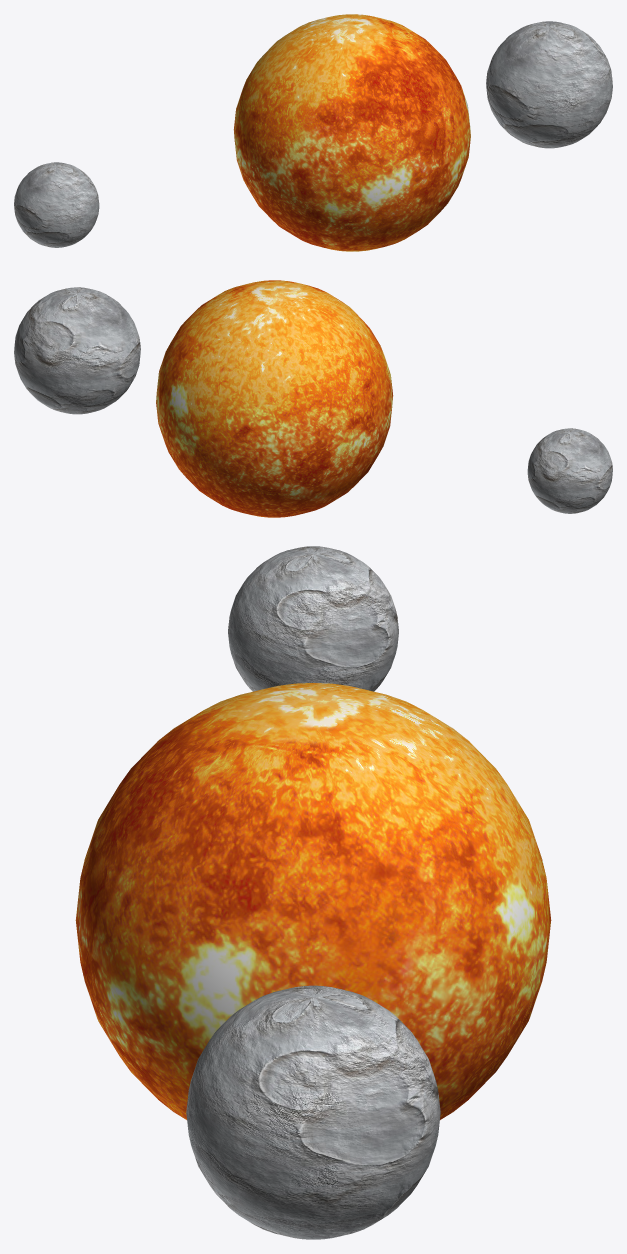
File: space.FBX
The picture shows the model from 3 angles, top to bottom: view 1: azimuth 30°, elevation 25°; view 2: azimuth 150°, elevation 25°; view 3: azimuth 270°, elevation 25°; orthographic projection. The views are drawn at different scales.
Visible parts, largest first — view 1: Sphere004, Sphere002, Sphere003; view 2: Sphere004, Sphere002, Sphere003; view 3: Sphere004, Sphere002, Sphere003.
Boxes of the visible parts, box(x1,y1,x2,y2) form: Sphere004: box(233, 14, 470, 251); Sphere002: box(486, 21, 612, 148); Sphere003: box(14, 162, 99, 247); Sphere004: box(156, 280, 393, 517); Sphere002: box(14, 287, 140, 414); Sphere003: box(527, 428, 612, 513); Sphere004: box(75, 683, 551, 1119); Sphere002: box(186, 985, 440, 1239); Sphere003: box(228, 546, 398, 691).
Bounding box in the file's own units: 1.51 × 0.5306 × 0.5306.
2 materials, 2 textured.
